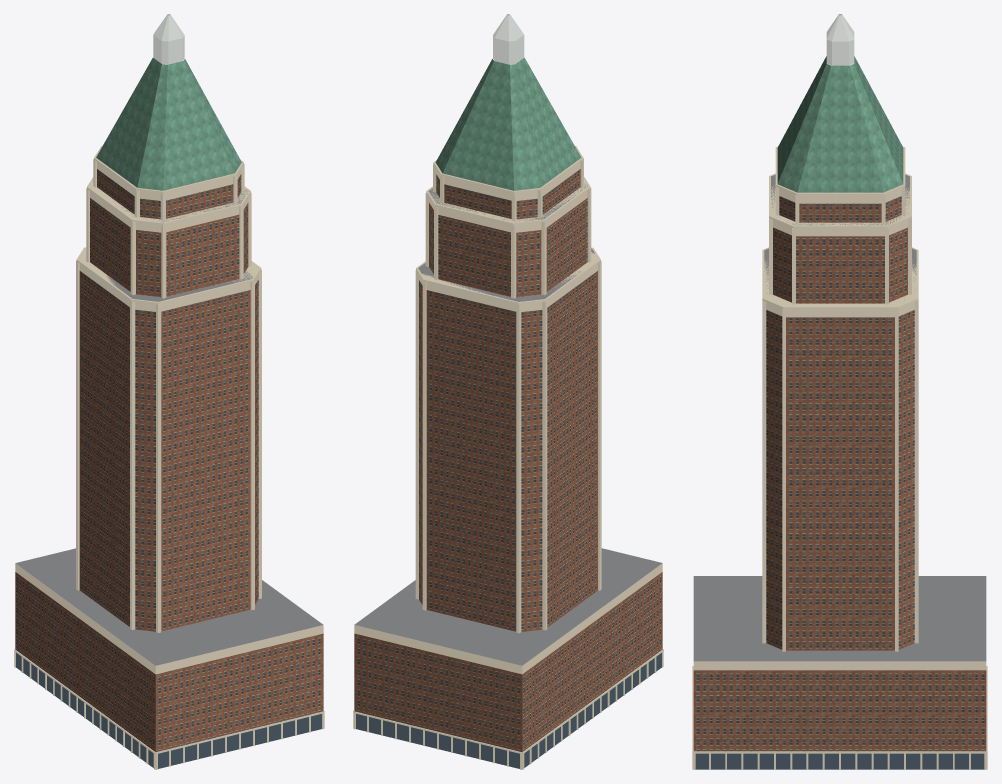
Rendered from worldwide_plaza.glb.
The picture shows the model from 3 angles, left to right: view 1: azimuth 30°, elevation 25°; view 2: azimuth 150°, elevation 25°; view 3: azimuth 270°, elevation 25°; orthographic projection. The views are drawn at different scales.
Visible parts, largest first — view 1: worldwide_plaza; view 2: worldwide_plaza; view 3: worldwide_plaza.
Boxes of the visible parts, x1,y1,x2,y2 form: worldwide_plaza: (14,14,324,769); worldwide_plaza: (353,14,663,769); worldwide_plaza: (692,14,987,769).
Size of the model in its own units: 61.81 by 237 by 89.09.
3 materials, 3 textured.
